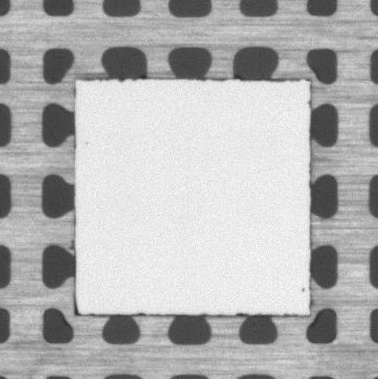DIE_INK: (300, 285, 306, 294)
